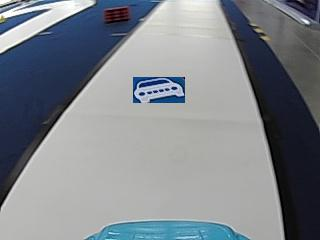bomb: (104, 5, 129, 22)
